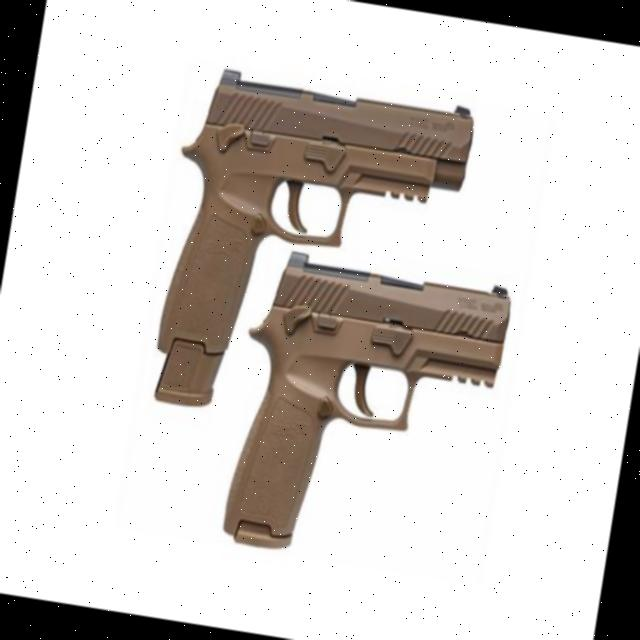Handgun: (142, 66, 475, 436), (216, 249, 513, 579)
